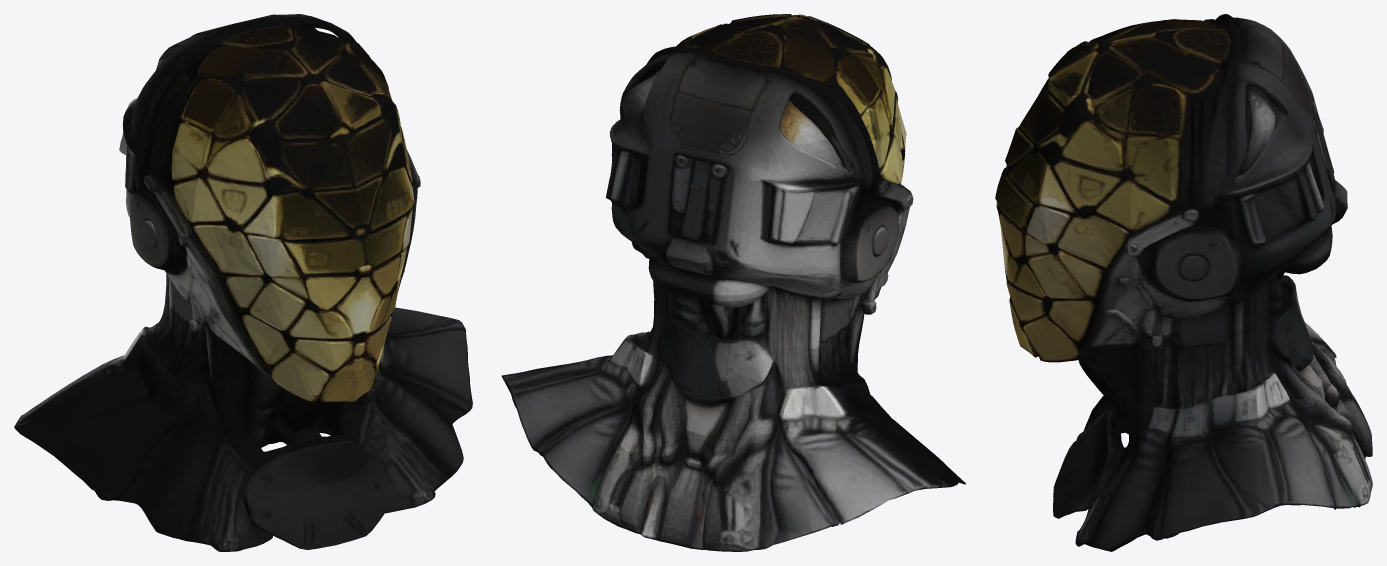
Rendered from deus_ex.glb.
The picture shows the model from 3 angles, left to right: view 1: azimuth 30°, elevation 25°; view 2: azimuth 150°, elevation 25°; view 3: azimuth 270°, elevation 25°; orthographic projection. The views are drawn at different scales.
Parts seen in each view (by area): view 1: geometry_0; view 2: geometry_0; view 3: geometry_0.
Boxes of the visible parts, left/top/right/bottom form: geometry_0: left=14, top=14, right=472, bottom=551; geometry_0: left=501, top=14, right=965, bottom=551; geometry_0: left=995, top=14, right=1372, bottom=551.
Size of the model in its own units: 0.6994 by 0.6917 by 0.5033.
Materials: 1 (1 with a texture image).
